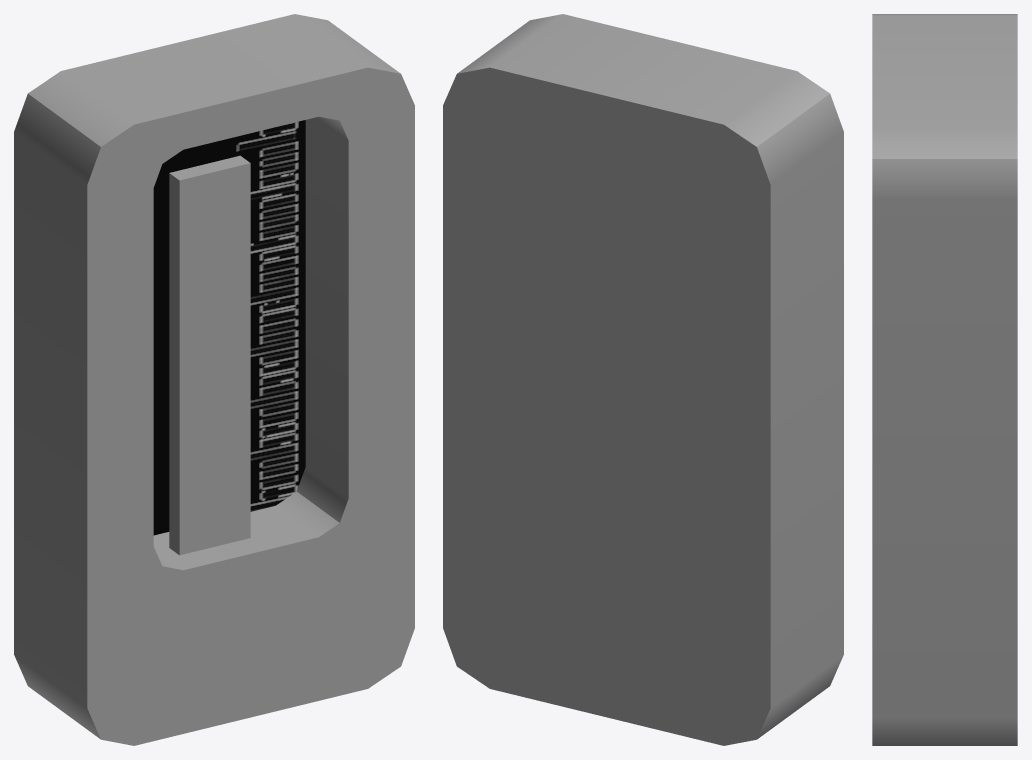
The model's file is Temp indicator.fbx.
3 views of the same model, side by side, from view 1: azimuth 30°, elevation 25°; view 2: azimuth 150°, elevation 25°; view 3: azimuth 270°, elevation 25° (orthographic).
Visible parts, largest first — view 1: Reading1, Inidcator; view 2: Reading1; view 3: Reading1.
Part boxes in pixels (x1,y1,x2,y2): Reading1: (14, 14, 414, 745); Inidcator: (169, 155, 250, 555); Reading1: (443, 14, 843, 745); Reading1: (872, 14, 1017, 745).
Size of the model in its own units: 39.22 by 71.09 by 15.19.
Materials: 3 (1 with a texture image).
